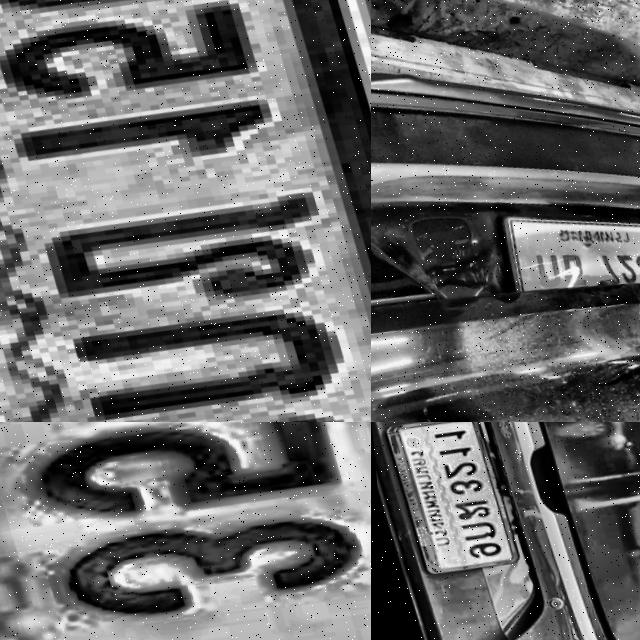license-plate: (0, 0, 371, 422), (0, 422, 371, 640), (374, 422, 513, 577), (510, 214, 604, 339)
